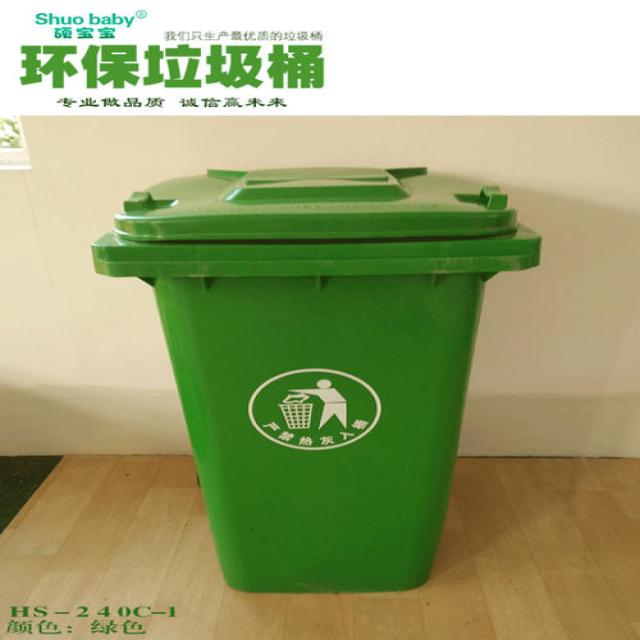garbage_bin: (90, 165, 540, 592)
